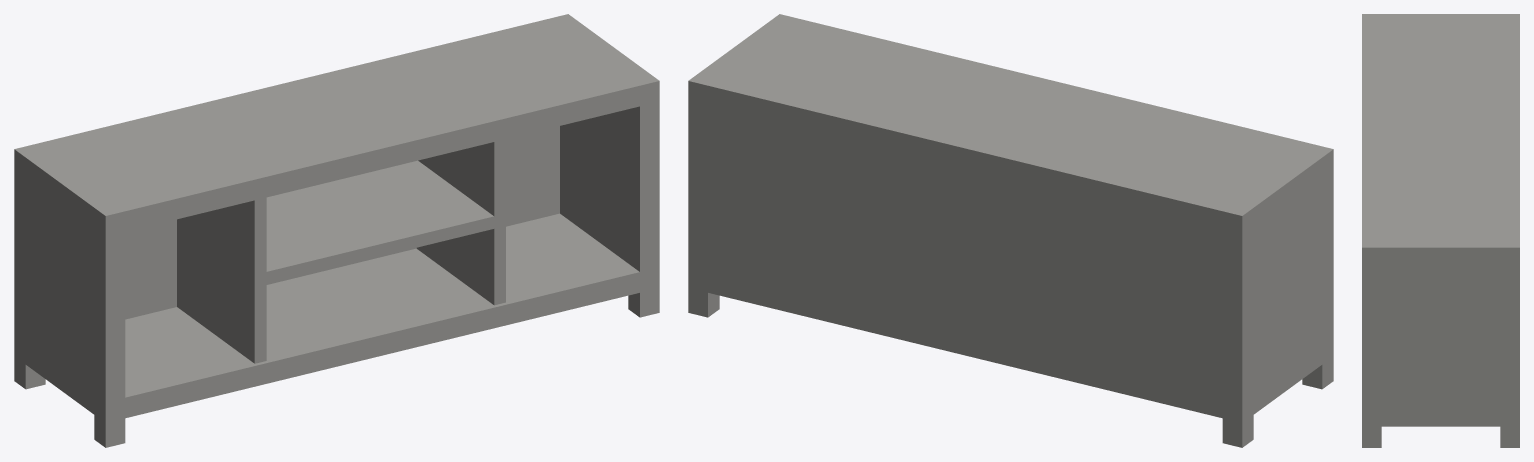
The model's file is SM_Props_Interior_House_Room_TV_Stand_02.fbx.
3 views of the same model, side by side, from view 1: azimuth 30°, elevation 25°; view 2: azimuth 150°, elevation 25°; view 3: azimuth 270°, elevation 25° (orthographic). The views are drawn at different scales.
Parts seen in each view (by area): view 1: SM_Props_Interior_House_Room_TV_Stand_02; view 2: SM_Props_Interior_House_Room_TV_Stand_02; view 3: SM_Props_Interior_House_Room_TV_Stand_02.
Boxes of the visible parts, x1,y1,x2,y2 form: SM_Props_Interior_House_Room_TV_Stand_02: [14, 14, 659, 447]; SM_Props_Interior_House_Room_TV_Stand_02: [688, 14, 1333, 447]; SM_Props_Interior_House_Room_TV_Stand_02: [1362, 14, 1519, 447].
Size of the model in its own units: 140 by 56 by 40.
